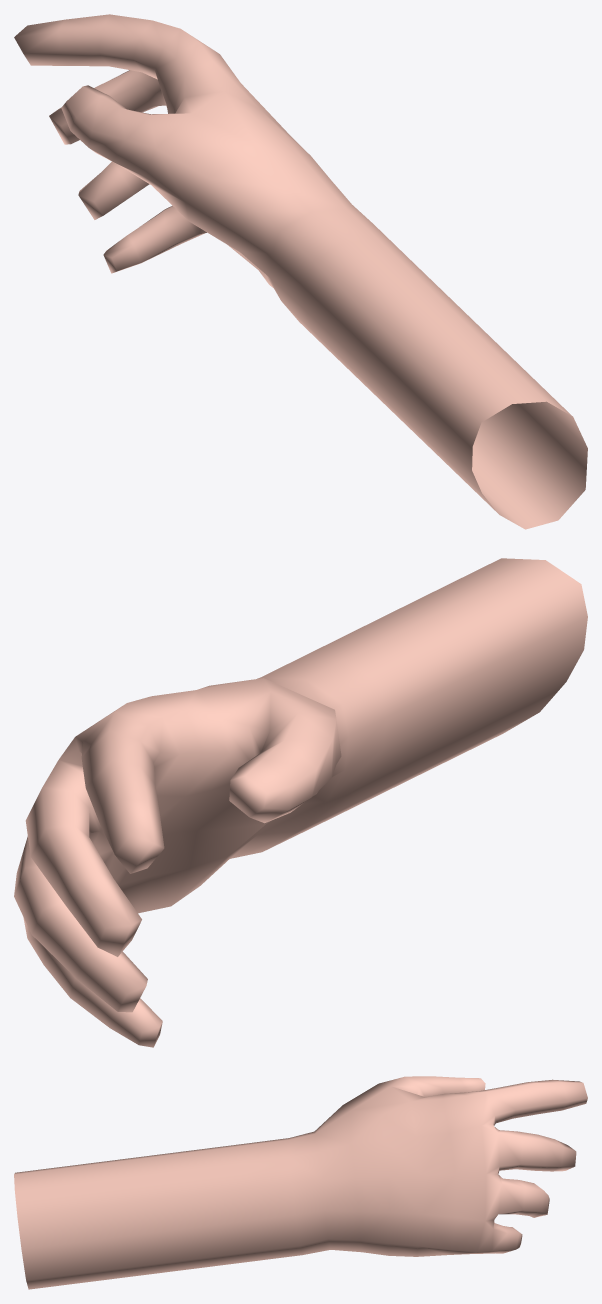
The model's file is Hand_R.fbx.
The picture shows the model from 3 angles, top to bottom: view 1: azimuth 30°, elevation 25°; view 2: azimuth 150°, elevation 25°; view 3: azimuth 270°, elevation 25°; orthographic projection. The views are drawn at different scales.
Parts seen in each view (by area): view 1: Hand_Right; view 2: Hand_Right; view 3: Hand_Right.
Part boxes in pixels (<box>): Hand_Right: <box>14,14,587,529</box>; Hand_Right: <box>14,558,587,1047</box>; Hand_Right: <box>14,1076,587,1289</box>.
Size of the model in its own units: 0.1111 by 0.1314 by 0.3749.
